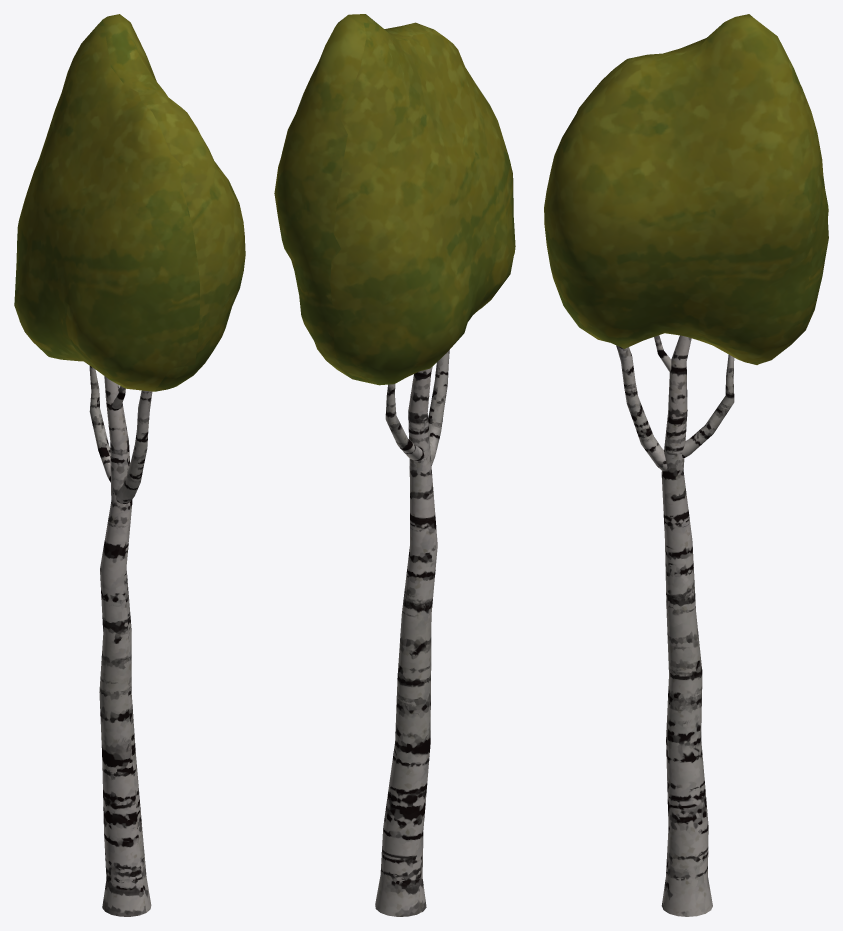
The model's file is Sm_BirchTree4.fbx.
The picture shows the model from 3 angles, left to right: view 1: azimuth 30°, elevation 25°; view 2: azimuth 150°, elevation 25°; view 3: azimuth 270°, elevation 25°; orthographic projection. The views are drawn at different scales.
Visible parts, largest first — view 1: Sm_BirchTree4; view 2: Sm_BirchTree4; view 3: Sm_BirchTree4.
Part boxes in pixels (bbox=[...]): Sm_BirchTree4: bbox=[14, 14, 245, 916]; Sm_BirchTree4: bbox=[274, 14, 515, 916]; Sm_BirchTree4: bbox=[544, 14, 828, 916].
Bounding box in the file's own units: 145 × 768 × 221.
